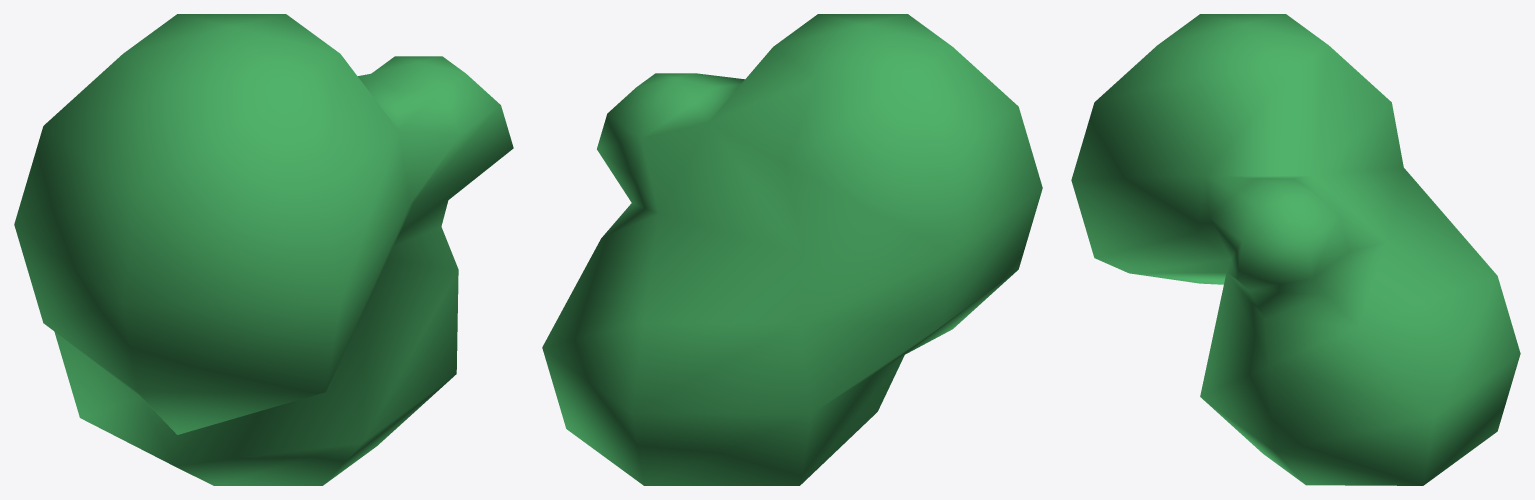
Rendered from lacune.fbx_MushroomBase.fbx.
The picture shows the model from 3 angles, left to right: view 1: azimuth 30°, elevation 25°; view 2: azimuth 150°, elevation 25°; view 3: azimuth 270°, elevation 25°; orthographic projection. The views are drawn at different scales.
Visible parts, largest first — view 1: MushroomBase; view 2: MushroomBase; view 3: MushroomBase.
Part boxes in pixels (x1,y1,x2,y2): MushroomBase: (14, 14, 513, 485); MushroomBase: (542, 14, 1042, 485); MushroomBase: (1071, 14, 1520, 485).
Size of what is drawn, in the model's own units: 18.83 by 21.17 by 21.02.
